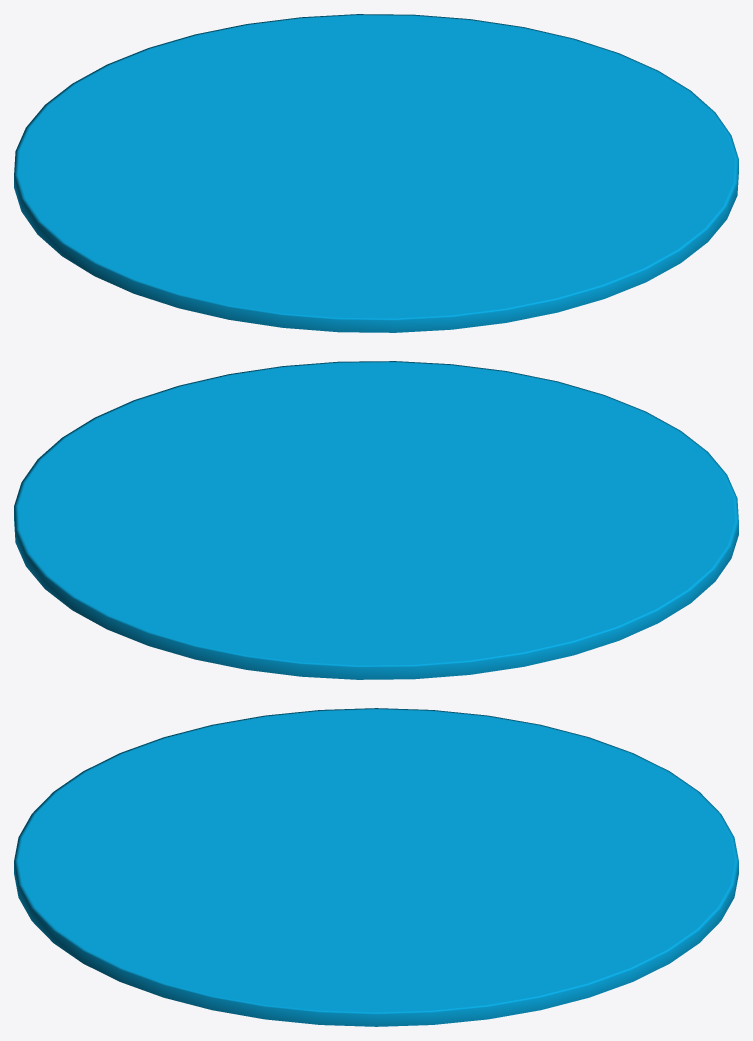
Rendered from Cylindre_Volume_01.fbx.
3 views of the same model, one above another, from view 1: azimuth 30°, elevation 25°; view 2: azimuth 150°, elevation 25°; view 3: azimuth 270°, elevation 25° (orthographic).
Parts seen in each view (by area): view 1: Cylindre_Volume_01; view 2: Cylindre_Volume_01; view 3: Cylindre_Volume_01.
Part boxes in pixels (box(x1,y1,x2,y2)): Cylindre_Volume_01: box(14, 14, 738, 332); Cylindre_Volume_01: box(14, 361, 738, 679); Cylindre_Volume_01: box(14, 708, 738, 1026).
Bounding box in the file's own units: 90.61 × 1.87 × 90.61.
